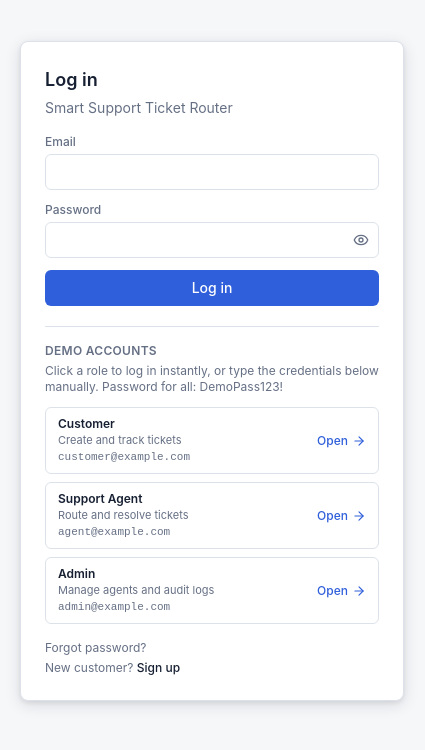
Test case: LoginPage › shows a generic error message when login fails
In the field labelled "Email": (212, 172) [45,154,379,190], type "agent@example.com"
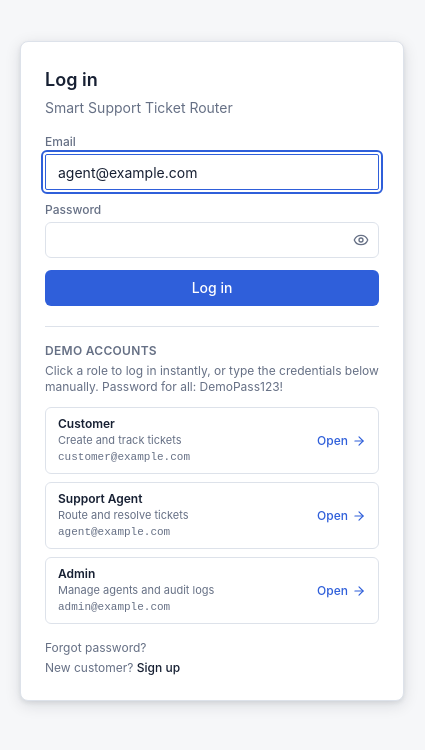
In the password field labelled "Password": (212, 240) [45,222,379,258], type "WrongPassword"
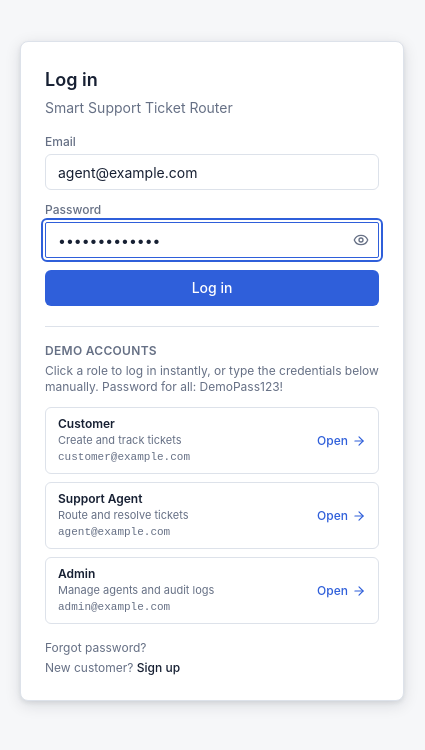
Click the button "Log in": click(212, 288) [45,270,379,306]
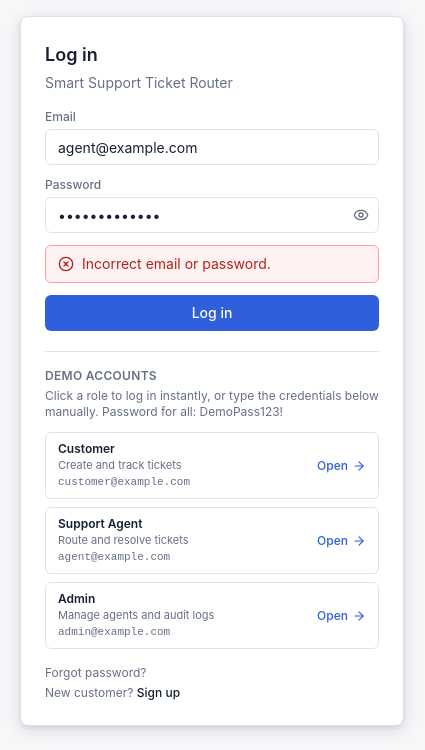
Now the message reads "Incorrect email or password.", box [82,255,271,272]
